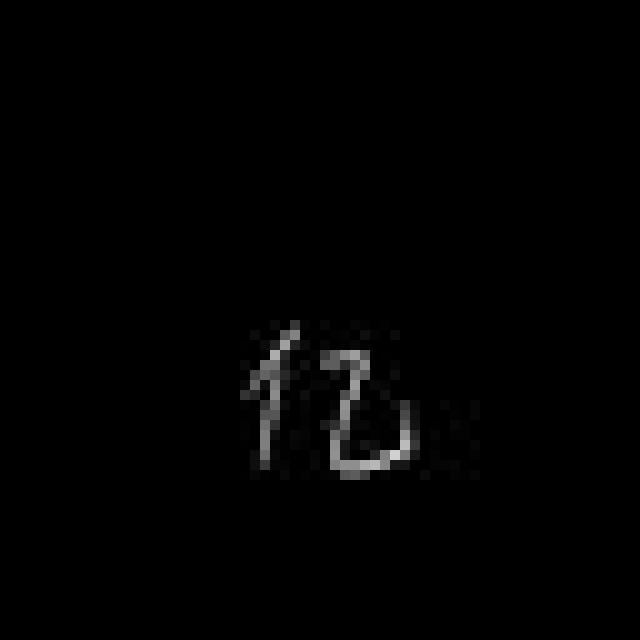100000 -a hundred thousand-: (235, 316, 420, 489)
